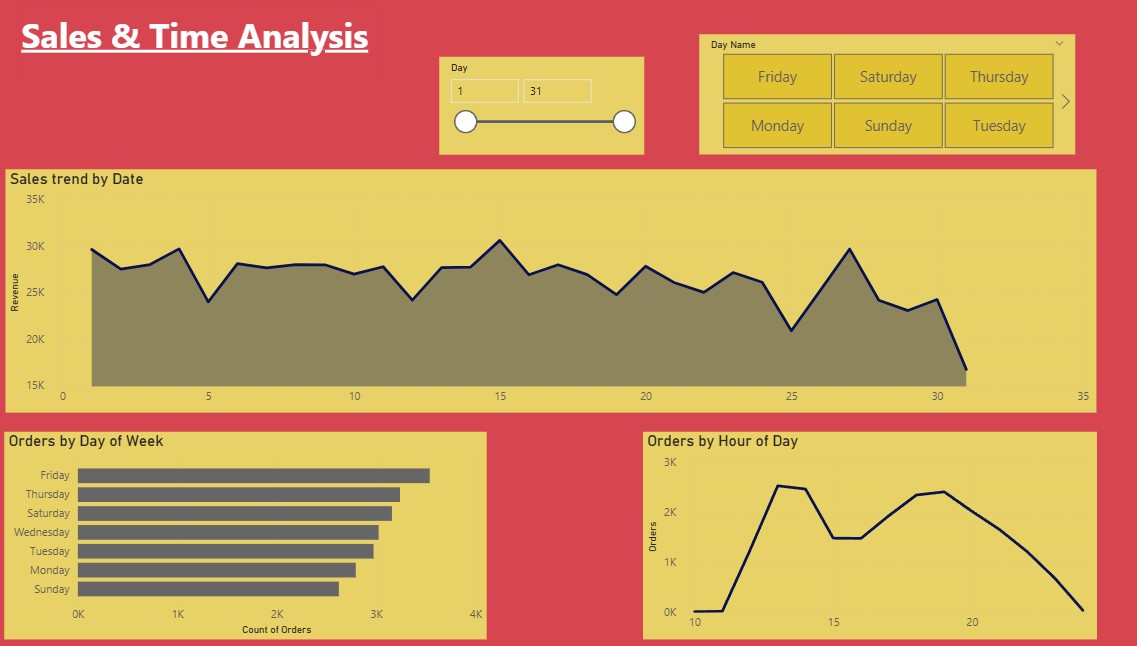

What the dashboard file says about the page in this screenshot:
{"tool":"powerbi","page":{"name":"Sales & Time Analysis","canvas":[1280,720],"ordinal":1},"visuals":[{"type":"slicer","fields":{"Values":["orders.date.Variation.Date Hierarchy.Day"]},"box":[489.9,70,223.7,107],"z":0},{"type":"slicer","fields":{"Values":["orders.Day Name"]},"box":[775.3,45.3,413,131.7],"z":1000},{"type":"areaChart","title":"Sales trend by Date","fields":{"Category":["orders.date.Variation.Date Hierarchy.Day"],"Y":["Sum(order_details.Sales)"]},"box":[13.7,193.5,1197.9,267.6],"z":2000},{"type":"barChart","title":"Orders by Day of Week","fields":{"Category":["orders.Day Name"],"Y":["CountNonNull(orders.order_id)"]},"box":[12.2,481.1,529.7,228.4],"z":3000},{"type":"lineChart","title":"Orders by Hour of Day","fields":{"Category":["orders.Hour"],"Y":["CountNonNull(orders.order_id)"]},"box":[713.6,481.6,498.1,227.8],"z":4000},{"type":"textbox","box":[26.1,15.1,399.3,85.1],"z":4001}]}

Visuals, with their boxes in screenshot pixels (x1, y1, x2, y2), scaled from the page's 1280x720 canvas onto the 1137x646 screenshot:
slicer - orders.date.Variation.Date Hierarchy.Day: 435/63/634/159
slicer - orders.Day Name: 689/41/1056/159
"Sales trend by Date" areaChart: 12/174/1076/414
"Orders by Day of Week" barChart: 11/432/481/637
"Orders by Hour of Day" lineChart: 634/432/1076/636
textbox: 23/14/378/90
